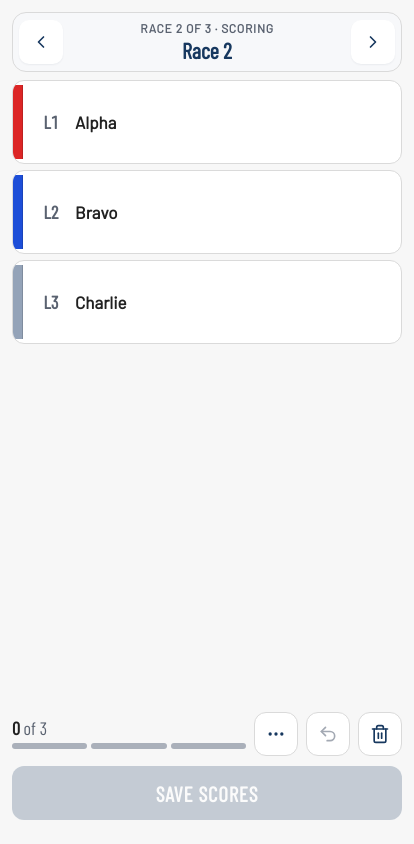
Test case: saving › keeps SAVE SCORES off until every team is placed, and counts them
Expected: the button "SAVE SCORES" is disabled, x1=12 y1=766 x2=402 y2=820
Expected: the text "of 3" is shown, x1=24 y1=717 x2=47 y2=739
Click the button with aria-label "Alpha, lane" at (96, 122), box x1=13 y1=81 x2=401 y2=163
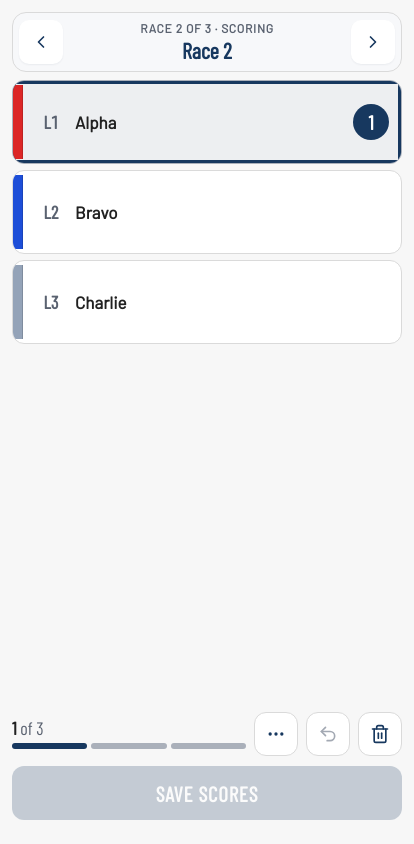
Click the button with aria-label "Bravo, lane" at (96, 212), box x1=13 y1=171 x2=401 y2=253
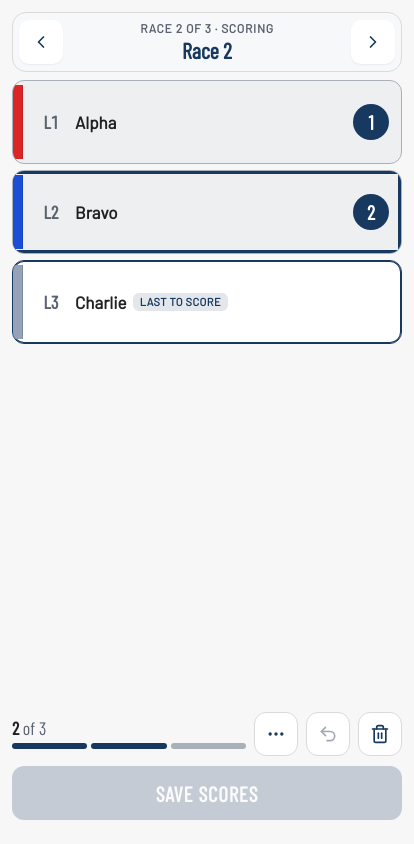
Expected: the button "SAVE SCORES" is disabled, x1=12 y1=766 x2=402 y2=820
Press Delete in the button with aria-label "Charlie, lane", box x1=13 y1=261 x2=401 y2=343
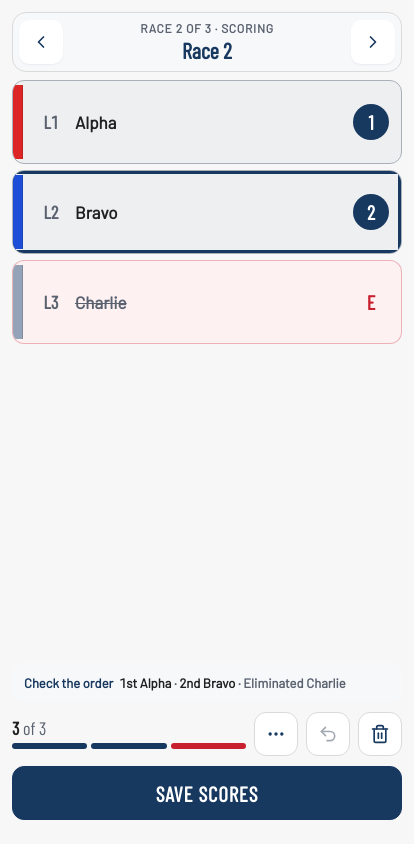
Now the button "SAVE SCORES" is enabled, box x1=12 y1=766 x2=402 y2=820
